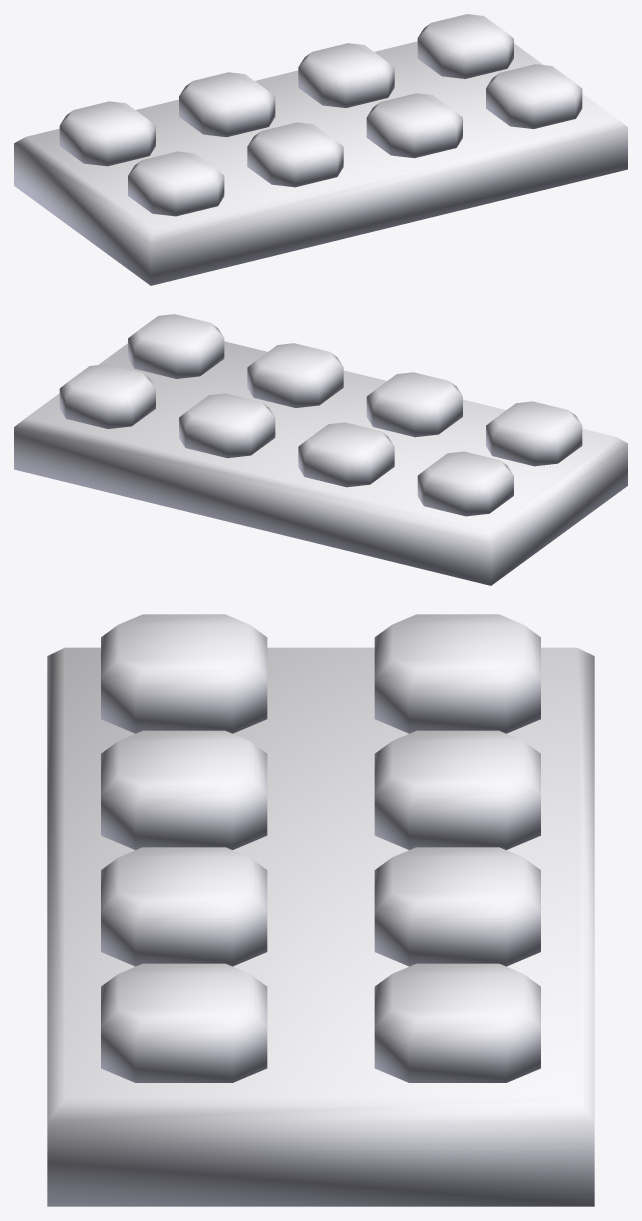
File: bevel-hq-plate-2x4.glb
3 views of the same model, one above another, from view 1: azimuth 30°, elevation 25°; view 2: azimuth 150°, elevation 25°; view 3: azimuth 270°, elevation 25° (orthographic). The views are drawn at different scales.
Parts seen in each view (by area): view 1: bevel-hq-plate-2x4; view 2: bevel-hq-plate-2x4; view 3: bevel-hq-plate-2x4.
Part boxes in pixels (x1=…): bevel-hq-plate-2x4: x1=14, y1=14, x2=627, y2=285; bevel-hq-plate-2x4: x1=14, y1=314, x2=627, y2=585; bevel-hq-plate-2x4: x1=47, y1=614, x2=594, y2=1206.
Size of the model in its own units: 0.318 by 0.05 by 0.158.
1 material, 1 textured.
